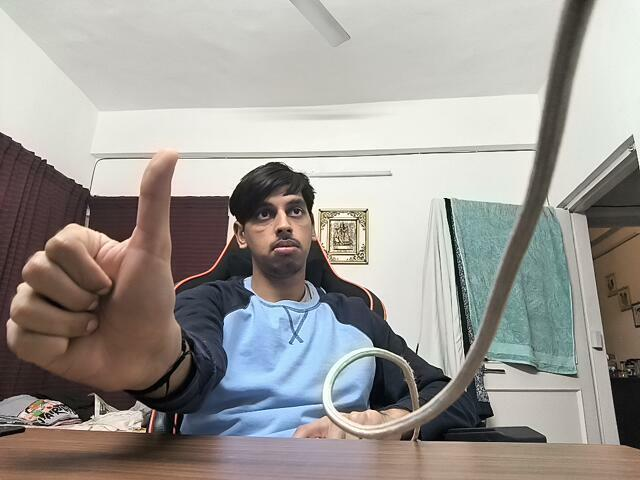LEFT: (7, 124, 201, 395)
